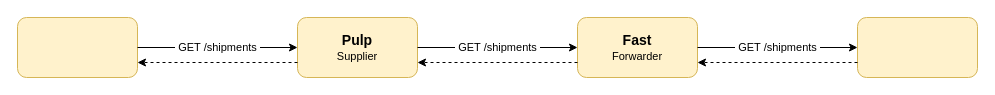
The diagram is 995 pixels wide and 95 high, and some of its shapes have lost their labels. Here are the shapes that lost their labels. From the top down, the box of each, then its label:
(16, 16, 138, 78): Corp Order Issuer
(856, 16, 978, 78): Road Carrier
